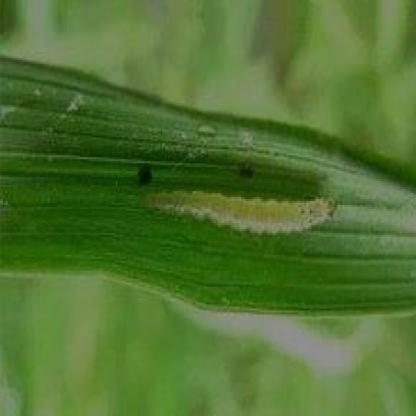leaf-folder: (132, 141, 350, 272)
